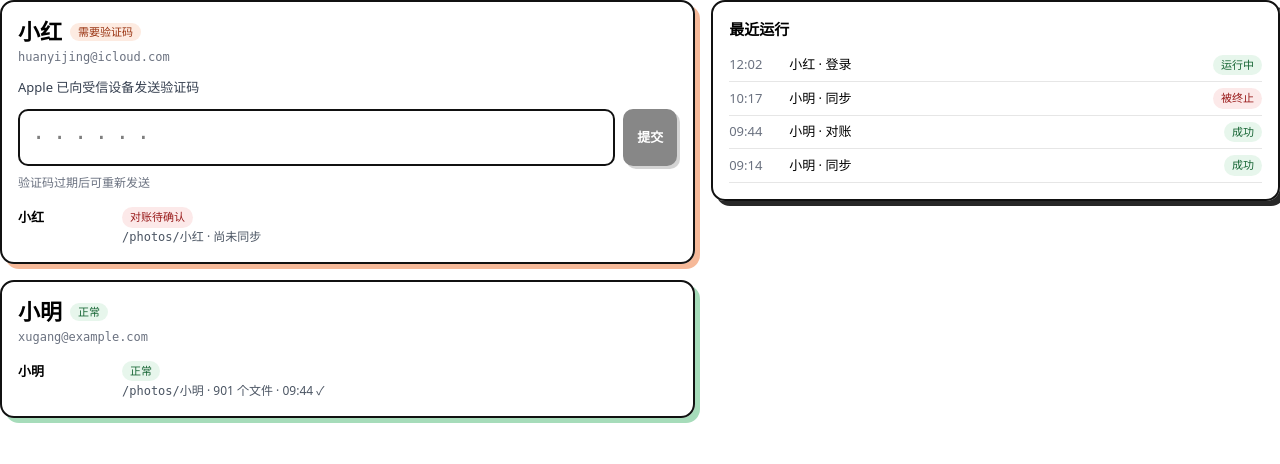
Test: AccountCard 2FA flow › an api error from /code clears and refocuses the input
Type "123456" into the field named "验证码" at (317, 138), box [18,109,615,166]
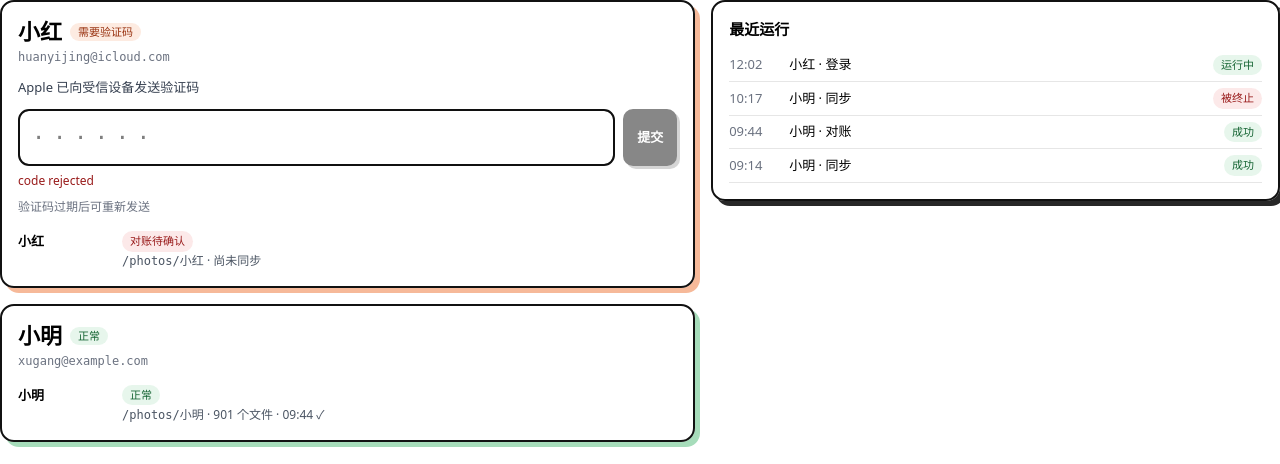
Expected: the text "code rejected" is shown, [18,172,94,189]
